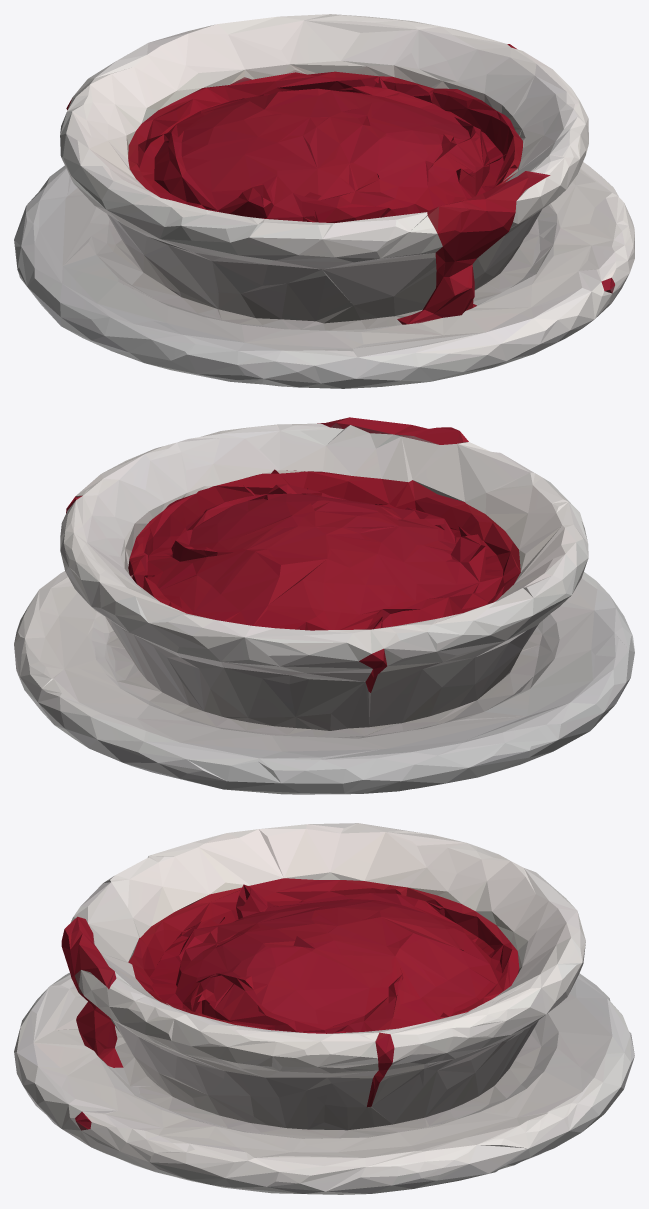
The model's file is cinnabar.glb.
The picture shows the model from 3 angles, top to bottom: view 1: azimuth 30°, elevation 25°; view 2: azimuth 150°, elevation 25°; view 3: azimuth 270°, elevation 25°; orthographic projection.
Parts seen in each view (by area): view 1: geometry_0; view 2: geometry_0; view 3: geometry_0.
Boxes of the visible parts, x1,y1,x2,y2 form: geometry_0: (14,14,634,388); geometry_0: (14,417,634,794); geometry_0: (14,823,634,1194).
Bounding box in the file's own units: 0.9809 × 0.2595 × 0.9818.
Materials: 1 (1 with a texture image).
